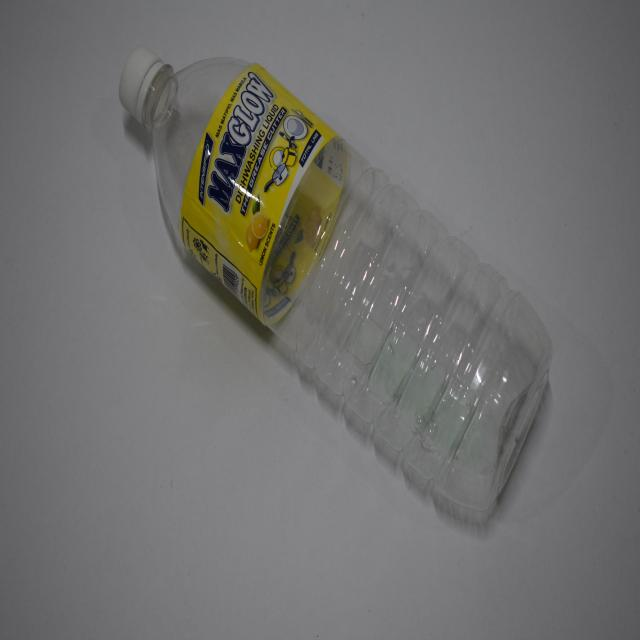plastic: (114, 38, 556, 534)
